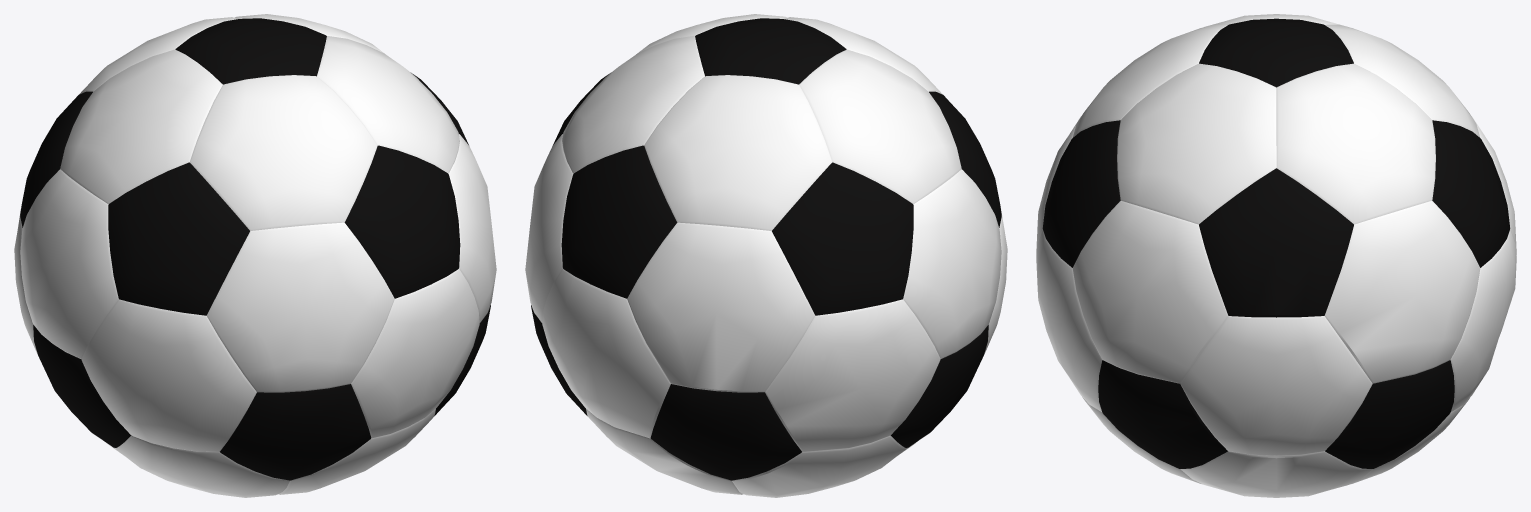
Rendered from Collectable_Football_01.fbx.
The picture shows the model from 3 angles, left to right: view 1: azimuth 30°, elevation 25°; view 2: azimuth 150°, elevation 25°; view 3: azimuth 270°, elevation 25°; orthographic projection.
Parts seen in each view (by area): view 1: Collectable_Football_01; view 2: Collectable_Football_01; view 3: Collectable_Football_01.
Part boxes in pixels (x1,y1,x2,y2): Collectable_Football_01: (14, 14, 496, 497); Collectable_Football_01: (525, 14, 1007, 497); Collectable_Football_01: (1036, 14, 1516, 497).
Bounding box in the file's own units: 54.47 × 54.54 × 54.08.
Materials: 1 (1 with a texture image).
